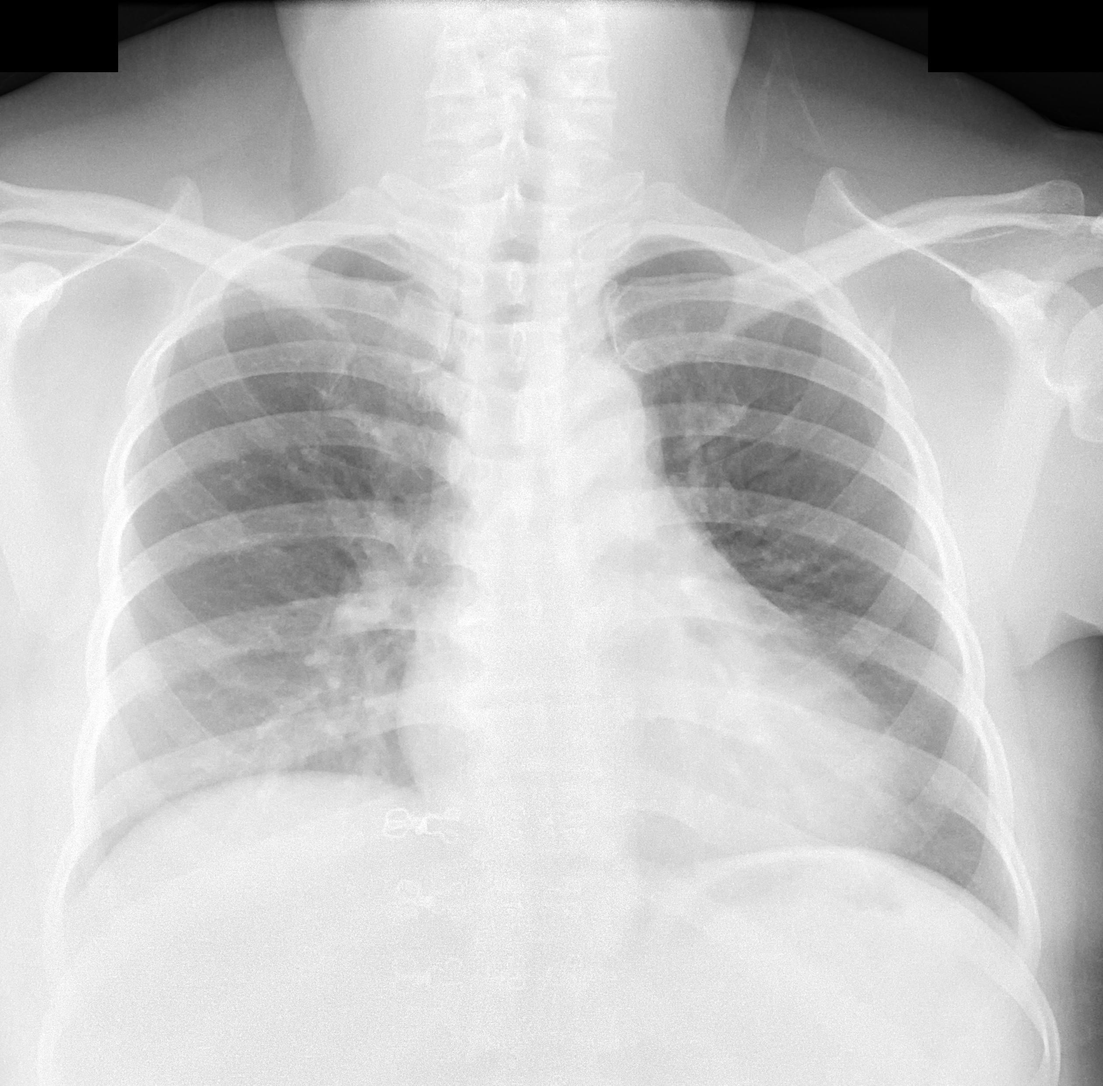Cardiomegaly: (397, 655, 913, 872)
